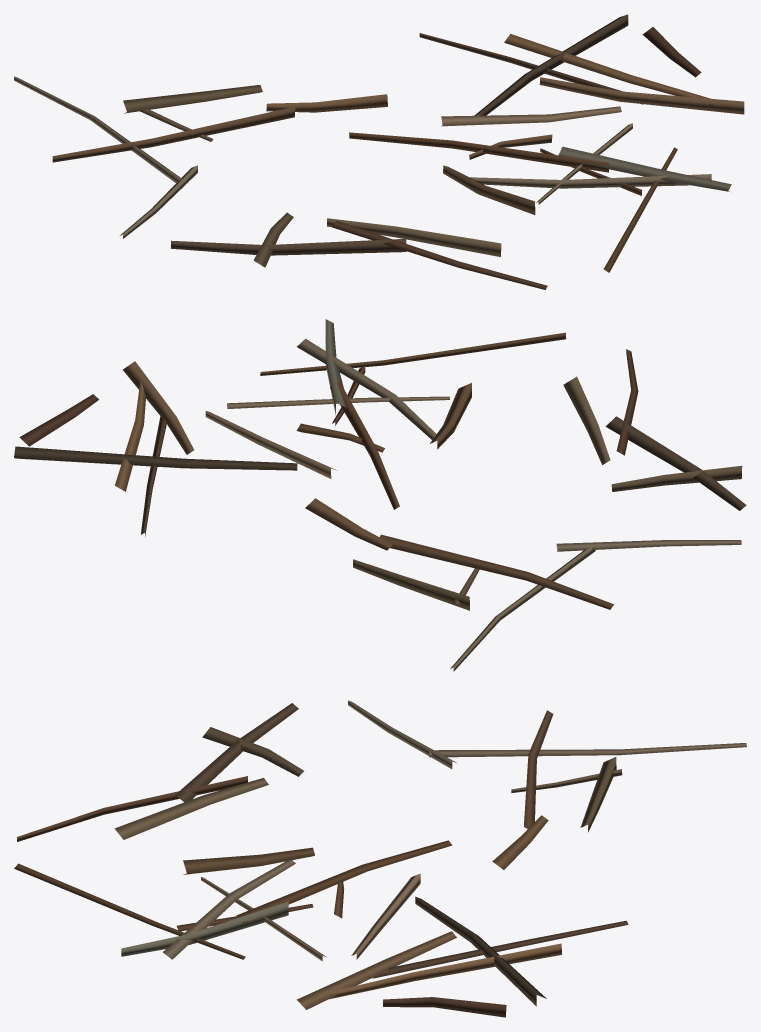
Rendered from twigs-b.lod1.glb.
3 views of the same model, one above another, from view 1: azimuth 30°, elevation 25°; view 2: azimuth 150°, elevation 25°; view 3: azimuth 270°, elevation 25° (orthographic). The views are drawn at different scales.
Bounding box in the file's own units: 1.26 × 0.0355 × 1.26.
